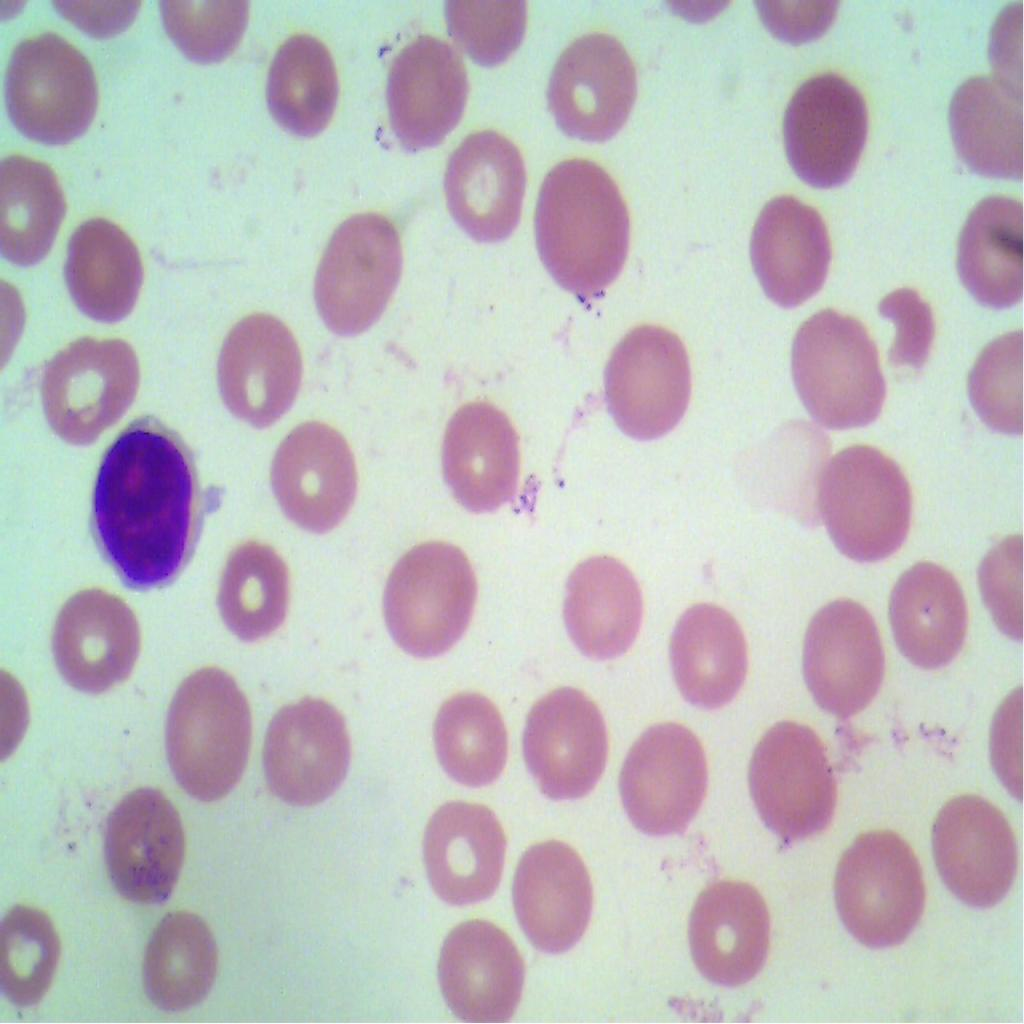Eritrosit: (529, 144, 638, 310), (810, 431, 914, 578), (590, 315, 704, 448), (671, 854, 776, 998), (823, 808, 926, 954), (775, 48, 876, 195), (374, 517, 478, 658), (0, 28, 110, 157), (739, 183, 842, 319), (163, 657, 255, 808), (662, 591, 766, 724), (259, 671, 355, 815), (614, 707, 714, 845), (793, 304, 895, 438), (310, 204, 400, 348), (744, 721, 842, 850), (519, 682, 614, 810), (543, 31, 644, 151), (40, 324, 138, 447), (48, 583, 149, 701), (128, 897, 226, 1018), (264, 414, 361, 535), (442, 111, 530, 244), (802, 586, 888, 722), (882, 548, 975, 672), (416, 684, 518, 797), (429, 911, 529, 1023), (261, 22, 346, 152), (413, 787, 503, 909), (210, 314, 306, 424), (513, 838, 601, 957), (556, 551, 644, 669), (439, 391, 524, 511), (101, 778, 184, 900), (932, 792, 1022, 902), (954, 186, 1023, 316), (213, 524, 289, 642), (950, 67, 1024, 188), (61, 219, 150, 319), (386, 41, 472, 144), (0, 151, 68, 272), (961, 312, 1023, 438), (869, 275, 939, 368), (0, 915, 66, 1012)
Limfosit: (83, 415, 215, 602)
